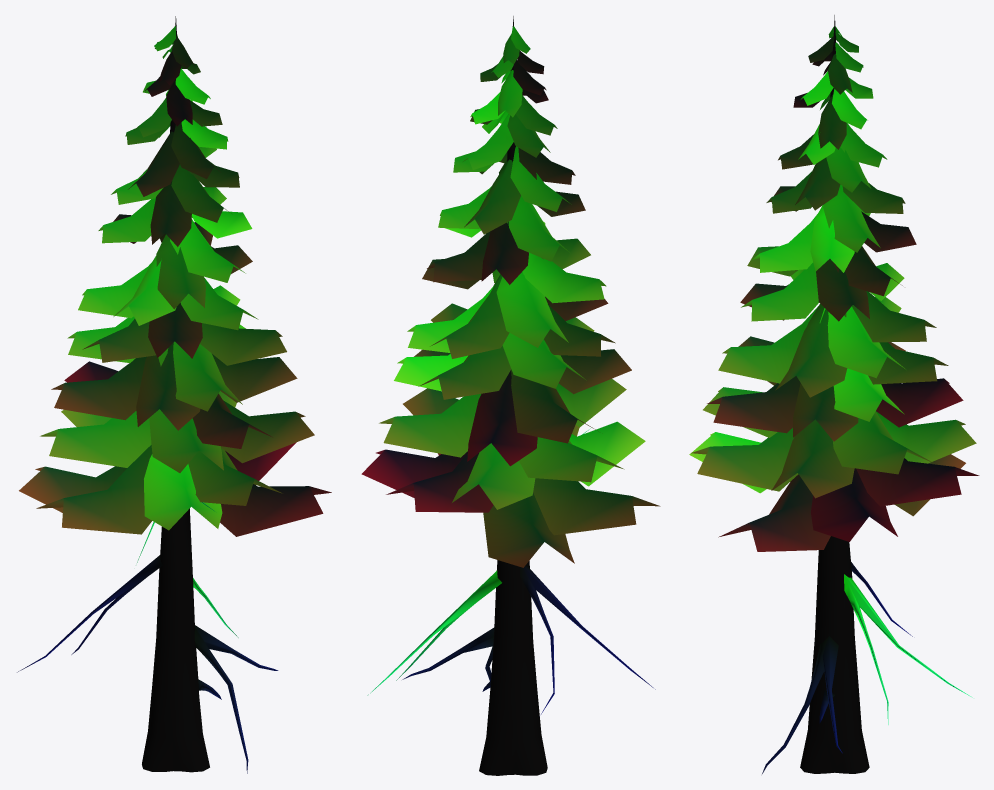
The model's file is SM_Pine9_Mobile_1.fbx.
3 renders of one model, left to right at view 1: azimuth 30°, elevation 25°; view 2: azimuth 150°, elevation 25°; view 3: azimuth 270°, elevation 25°, orthographic.
Visible parts, largest first — view 1: Tree_1; view 2: Tree_1; view 3: Tree_1.
Part boxes in pixels (bbox=[...]): Tree_1: bbox=[17, 16, 331, 773]; Tree_1: bbox=[361, 16, 660, 775]; Tree_1: bbox=[689, 15, 979, 773].
Size of the model in its own units: 1114 by 2812 by 990.
